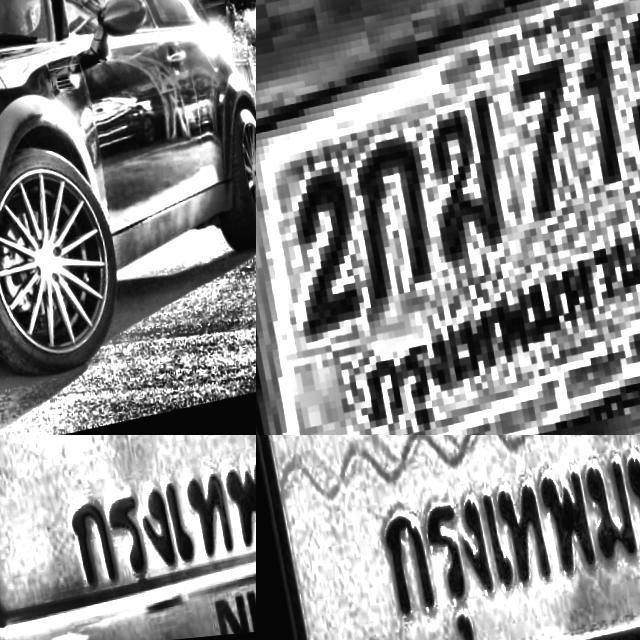license-plate: (256, 0, 640, 435), (256, 435, 640, 640), (0, 435, 256, 640)
